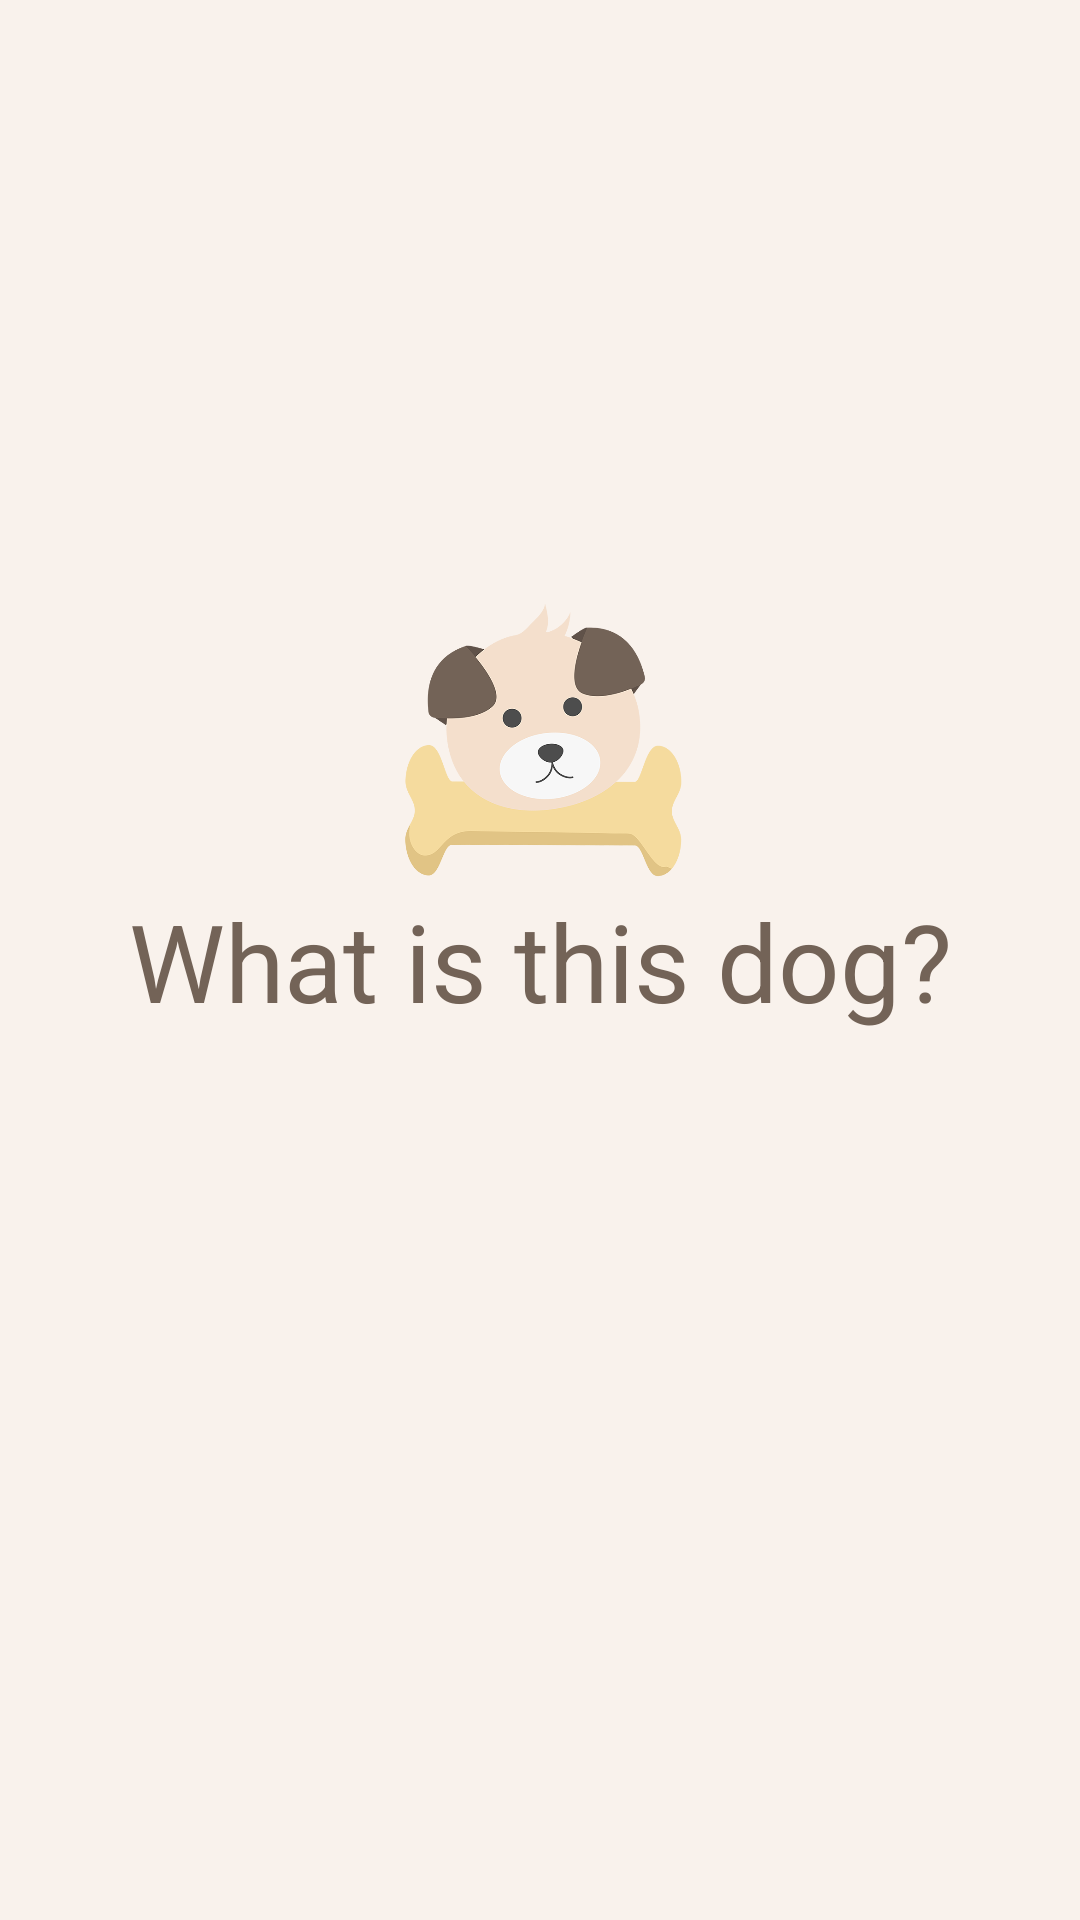

Point at icon controls on the screen. Image size 1080px×1920px, points as (x,y).
loadingpuppy: (543,741)
